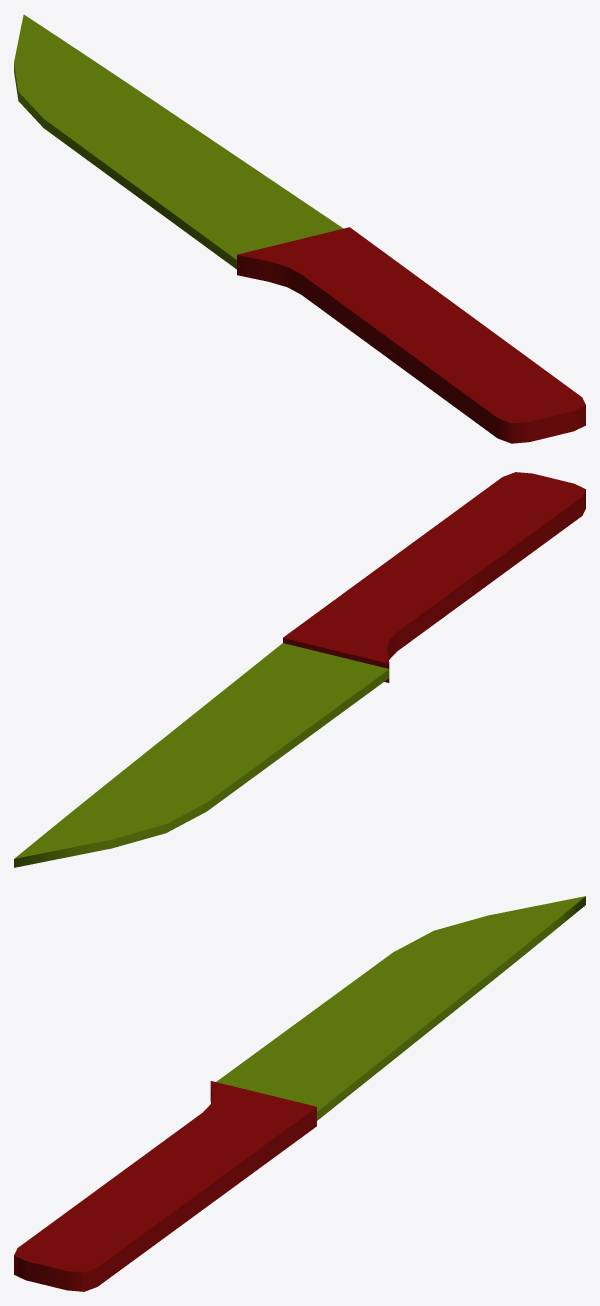
The model's file is SM_Knife_01.fbx.
3 renders of one model, top to bottom at view 1: azimuth 30°, elevation 25°; view 2: azimuth 150°, elevation 25°; view 3: azimuth 330°, elevation 25°, orthographic. The views are drawn at different scales.
Visible parts, largest first — view 1: SM_Knife_01; view 2: SM_Knife_01; view 3: SM_Knife_01.
Part boxes in pixels (x1,y1,x2,y2): SM_Knife_01: [14, 14, 585, 443]; SM_Knife_01: [14, 472, 585, 867]; SM_Knife_01: [14, 896, 585, 1291].
Bounding box in the file's own units: 6.57 × 1.14 × 55.47.
